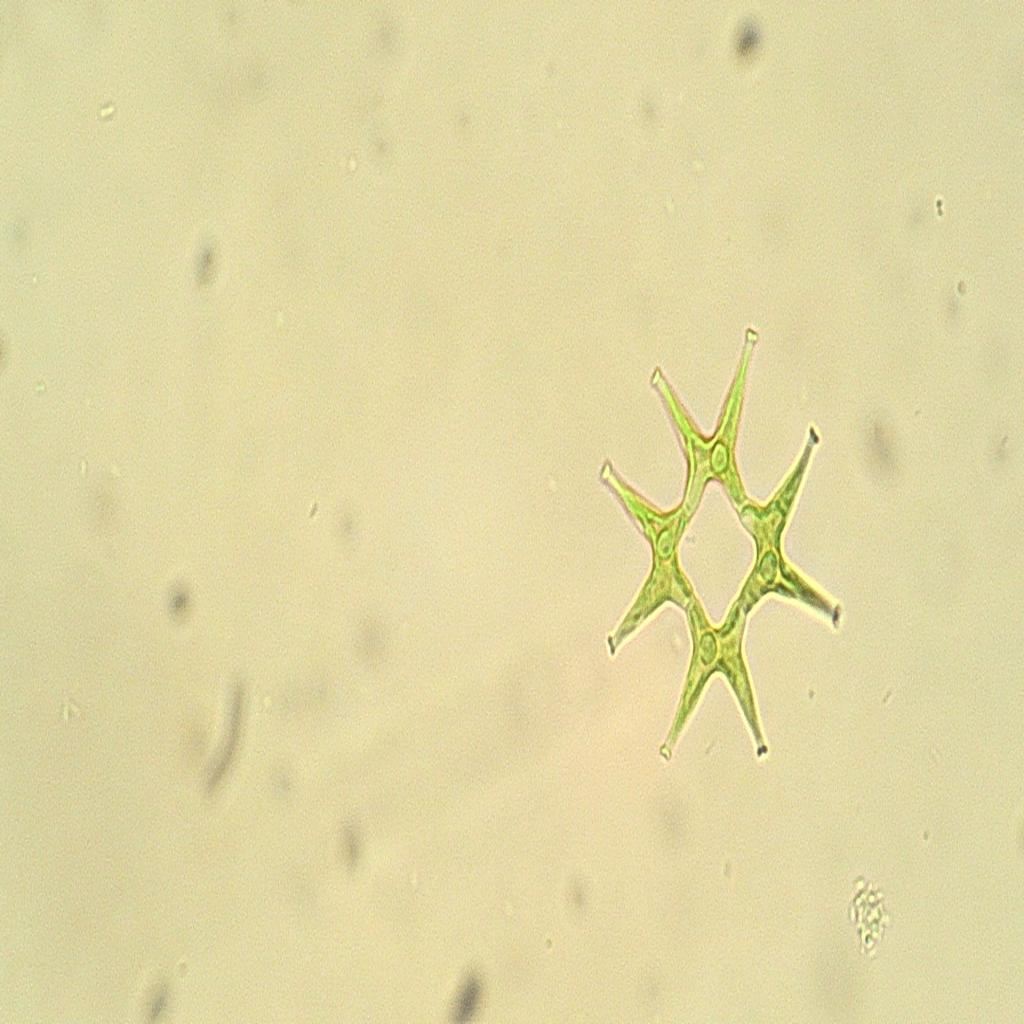Pediastrum_10: (574, 316, 861, 796)
